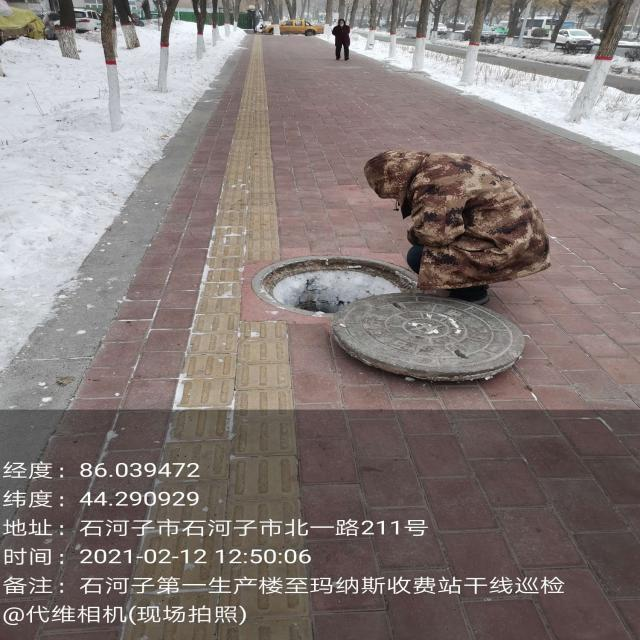manhole: (252, 256, 416, 314)
